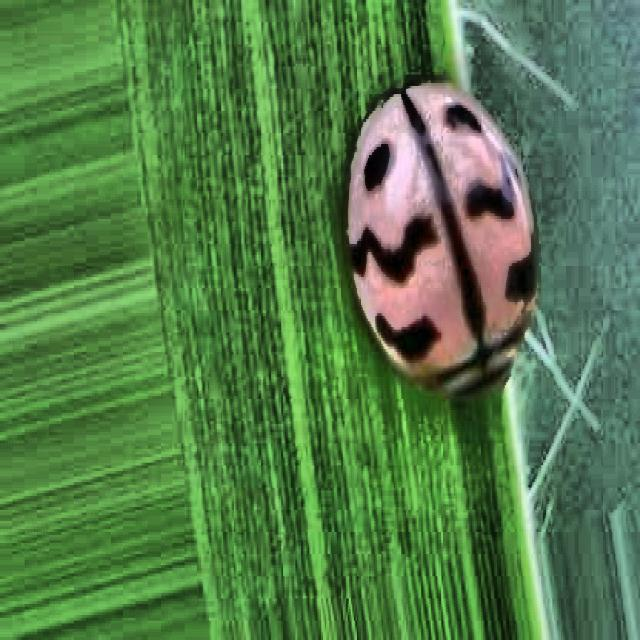Asian-Lady-beetle: (326, 32, 558, 422)
